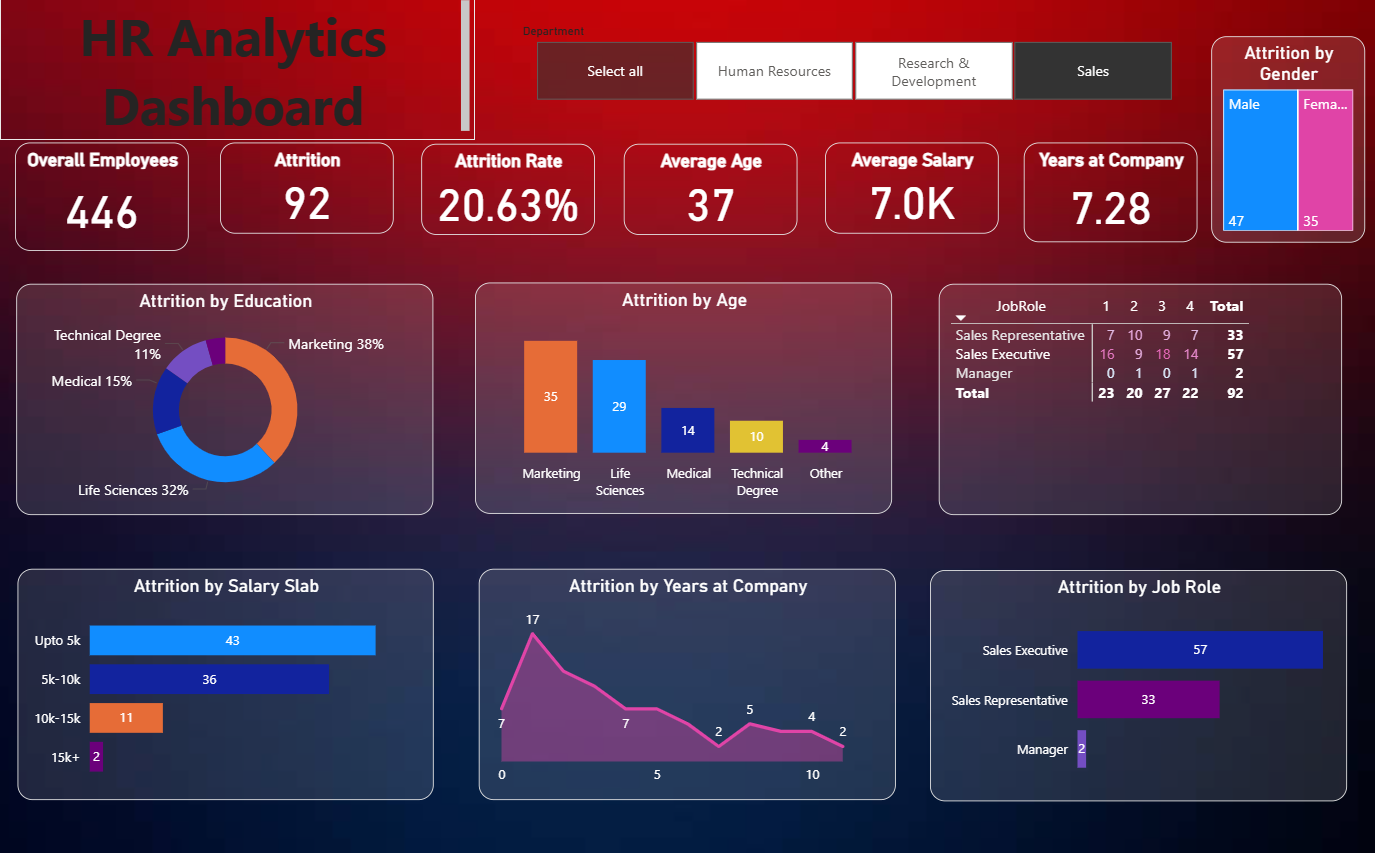

The page's visual inventory and layout, read from the dashboard file:
{"tool":"powerbi","page":{"name":"Page 1","canvas":[1280,800],"ordinal":0},"visuals":[{"type":"card","title":"Overall Employees","fields":{"Values":["CountNonNull(HR_Analytics.EmpID)"]},"box":[14,137.2,161.6,101.2],"z":0},{"type":"card","title":"Attrition","fields":{"Values":["Sum(HR_Analytics.AttritionCount)"]},"box":[204.7,137.2,161.6,84.9],"z":1000},{"type":"card","title":"Attrition Rate","fields":{"Values":["HR_Analytics.AttritionRate"]},"box":[391.9,138.4,161.6,84.9],"z":2000},{"type":"card","title":"Average Age","fields":{"Values":["Avg(HR_Analytics.Age)"]},"box":[580.2,138.4,161.6,84.9],"z":3000},{"type":"card","title":"Average Salary","fields":{"Values":["Avg(HR_Analytics.MonthlyIncome)"]},"box":[767.4,137.2,161.6,84.9],"z":4000},{"type":"card","title":"Years at Company","fields":{"Values":["Avg(HR_Analytics.YearsAtCompany)"]},"box":[952.3,137.2,161.6,93],"z":5000},{"type":"donutChart","title":"Attrition by Education","fields":{"Category":["HR_Analytics.EducationField"],"Y":["Sum(HR_Analytics.AttritionCount)"]},"box":[15.1,268.6,388.4,215.1],"z":6000},{"type":"columnChart","title":"Attrition by Age","fields":{"Category":["HR_Analytics.EducationField"],"Y":["Sum(HR_Analytics.AttritionCount)"],"Series":["HR_Analytics.EducationField"]},"box":[441.9,267.4,388.4,215.1],"z":7000},{"type":"pivotTable","fields":{"Rows":["HR_Analytics.JobRole"],"Columns":["HR_Analytics.JobSatisfaction"],"Values":["Sum(HR_Analytics.AttritionCount)"]},"box":[873.3,268.6,375.6,215.1],"z":8000},{"type":"barChart","title":"Attrition by Salary Slab","fields":{"Category":["HR_Analytics.SalarySlab"],"Y":["Sum(HR_Analytics.AttritionCount)"],"Series":["HR_Analytics.SalarySlab"]},"box":[16.3,533.7,387.2,215.1],"z":9000},{"type":"barChart","title":"Attrition by Job Role","fields":{"Category":["HR_Analytics.JobRole"],"Y":["Sum(HR_Analytics.AttritionCount)"],"Series":["HR_Analytics.JobRole"]},"box":[865.1,534.9,388.4,215.1],"z":10000},{"type":"areaChart","title":"Attrition by Years at Company","fields":{"Category":["HR_Analytics.YearsAtCompany"],"Y":["Sum(HR_Analytics.AttritionCount)"]},"box":[445.4,533.7,388.4,215.1],"z":11000},{"type":"treemap","title":"Attrition by Gender","fields":{"Group":["HR_Analytics.Gender"],"Values":["Sum(HR_Analytics.AttritionCount)"]},"box":[1126.7,38.4,143,191.9],"z":12000},{"type":"slicer","fields":{"Values":["HR_Analytics.Department"]},"box":[473.3,22.1,640.7,82.6],"z":13000},{"type":"textbox","box":[0,0,441.9,134.9],"z":14000}]}

Visuals, with their boxes in screenshot pixels (x1, y1, x2, y2), scaled from the page's 1280x800 canvas onto the 1375x853 screenshot:
"Overall Employees" card: {"x1": 15, "y1": 146, "x2": 189, "y2": 254}
"Attrition" card: {"x1": 220, "y1": 146, "x2": 393, "y2": 237}
"Attrition Rate" card: {"x1": 421, "y1": 148, "x2": 595, "y2": 238}
"Average Age" card: {"x1": 623, "y1": 148, "x2": 797, "y2": 238}
"Average Salary" card: {"x1": 824, "y1": 146, "x2": 998, "y2": 237}
"Years at Company" card: {"x1": 1023, "y1": 146, "x2": 1197, "y2": 245}
"Attrition by Education" donutChart: {"x1": 16, "y1": 286, "x2": 433, "y2": 516}
"Attrition by Age" columnChart: {"x1": 475, "y1": 285, "x2": 892, "y2": 514}
pivotTable - HR_Analytics.JobRole x HR_Analytics.JobSatisfaction: {"x1": 938, "y1": 286, "x2": 1342, "y2": 516}
"Attrition by Salary Slab" barChart: {"x1": 18, "y1": 569, "x2": 433, "y2": 798}
"Attrition by Job Role" barChart: {"x1": 929, "y1": 570, "x2": 1347, "y2": 800}
"Attrition by Years at Company" areaChart: {"x1": 478, "y1": 569, "x2": 896, "y2": 798}
"Attrition by Gender" treemap: {"x1": 1210, "y1": 41, "x2": 1364, "y2": 246}
slicer - HR_Analytics.Department: {"x1": 508, "y1": 24, "x2": 1197, "y2": 112}
textbox: {"x1": 0, "y1": 0, "x2": 475, "y2": 144}
